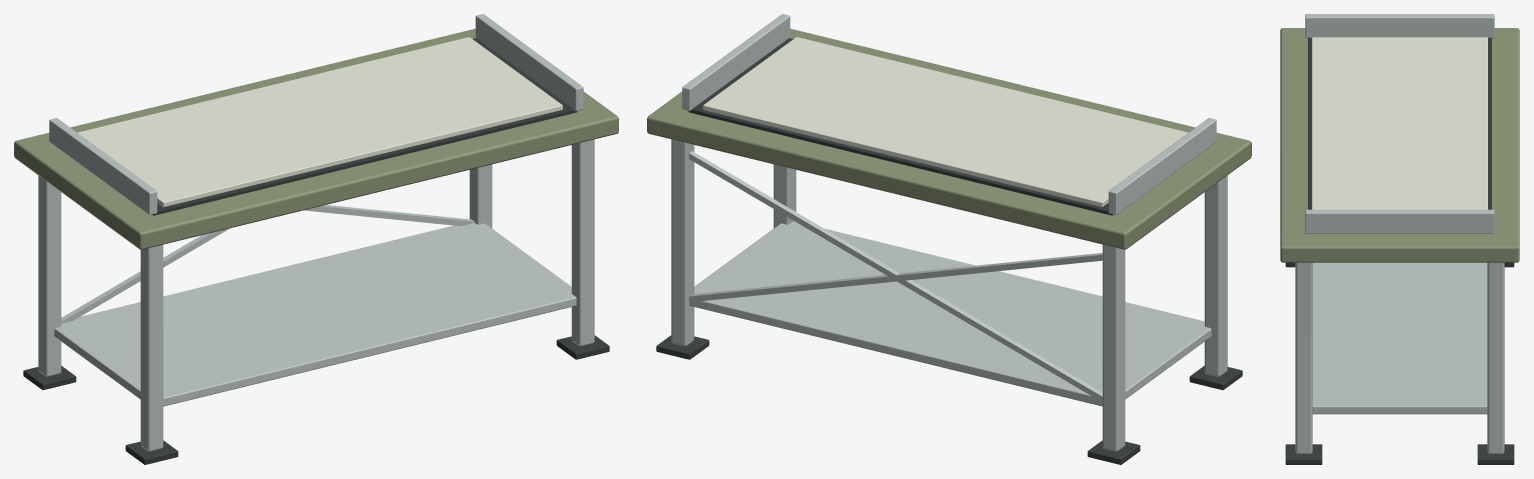
The model's file is mountain-border-checkpoint-mountain-border-checkpoint--68082fb2__30307.glb.
3 views of the same model, side by side, from view 1: azimuth 30°, elevation 25°; view 2: azimuth 150°, elevation 25°; view 3: azimuth 270°, elevation 25° (orthographic). The views are drawn at different scales.
Parts seen in each view (by area): view 1: mountain-border-checkpoint-luggage-inspection-table; view 2: mountain-border-checkpoint-luggage-inspection-table; view 3: mountain-border-checkpoint-luggage-inspection-table.
Part boxes in pixels (bbox=[...]): mountain-border-checkpoint-luggage-inspection-table: bbox=[14, 14, 618, 464]; mountain-border-checkpoint-luggage-inspection-table: bbox=[647, 14, 1251, 464]; mountain-border-checkpoint-luggage-inspection-table: bbox=[1280, 14, 1519, 464].
Bounding box in the file's own units: 1.98 × 1.03 × 0.9101.
